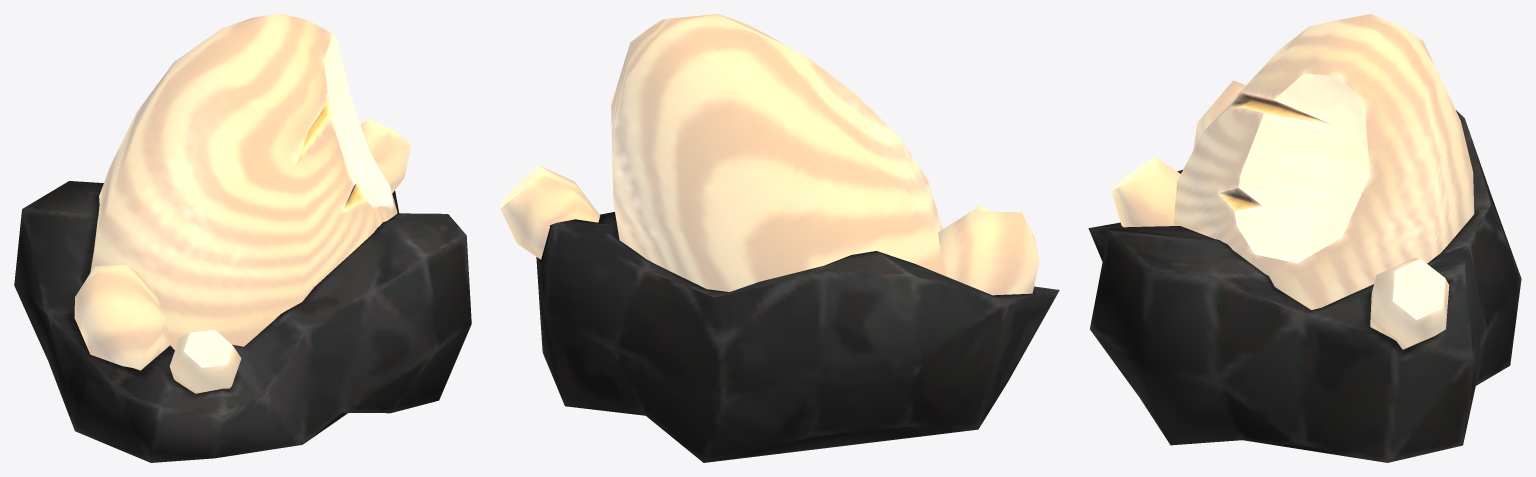
The model's file is Item_Ore_F.glb.
3 renders of one model, left to right at view 1: azimuth 30°, elevation 25°; view 2: azimuth 150°, elevation 25°; view 3: azimuth 270°, elevation 25°, orthographic. The views are drawn at different scales.
Visible parts, largest first — view 1: Item_Ore_F; view 2: Item_Ore_F; view 3: Item_Ore_F.
Boxes of the visible parts, box(x1,y1,x2,y2) form: Item_Ore_F: box(14, 14, 471, 462); Item_Ore_F: box(500, 14, 1059, 462); Item_Ore_F: box(1088, 14, 1521, 462).
Size of the model in its own units: 0.6038 by 0.4741 by 0.498.
Materials: 2 (2 with a texture image).
